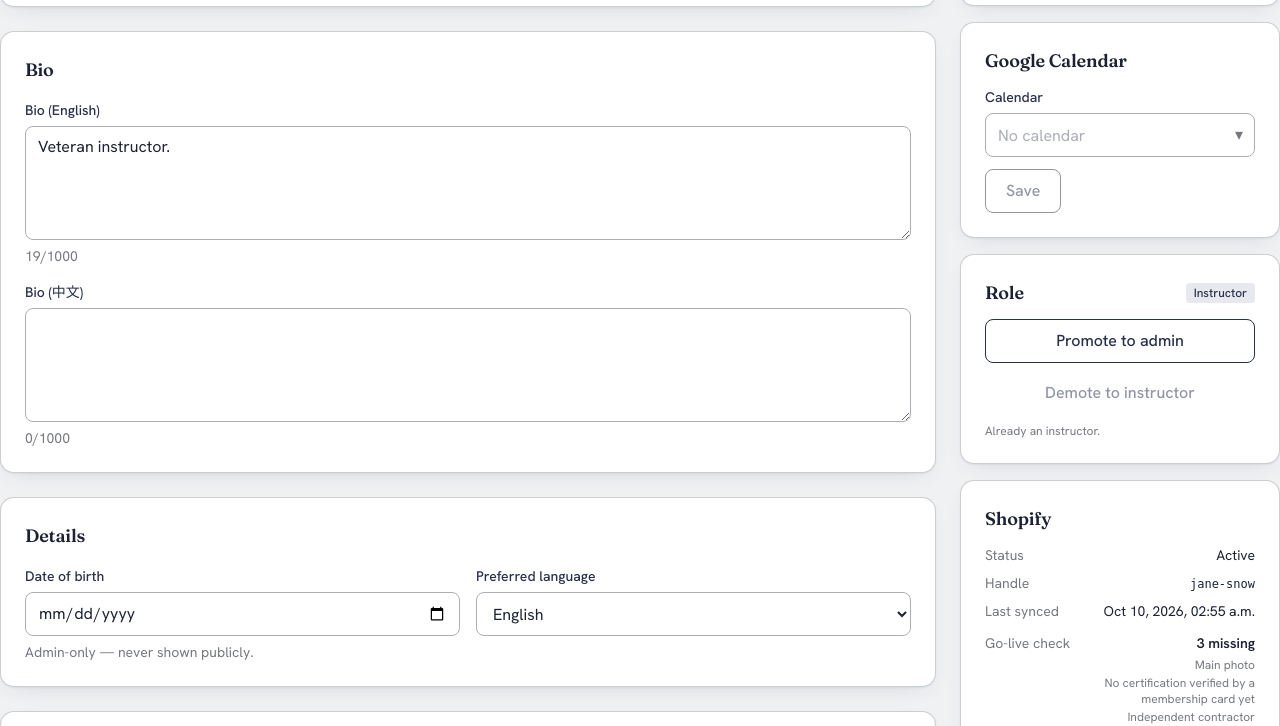
Test case: AdminDetailPage role › shows the instructor role and only allows promoting
(page scrolled)
Check: the text "Instructor" is shown, box [1186,283,1255,303]
Check: the 4th button named "Demote to instructor" is disabled, box [985,371,1255,415]
Click the 3rd button named "Promote to admin" at point(1120, 341), box [985,319,1255,363]
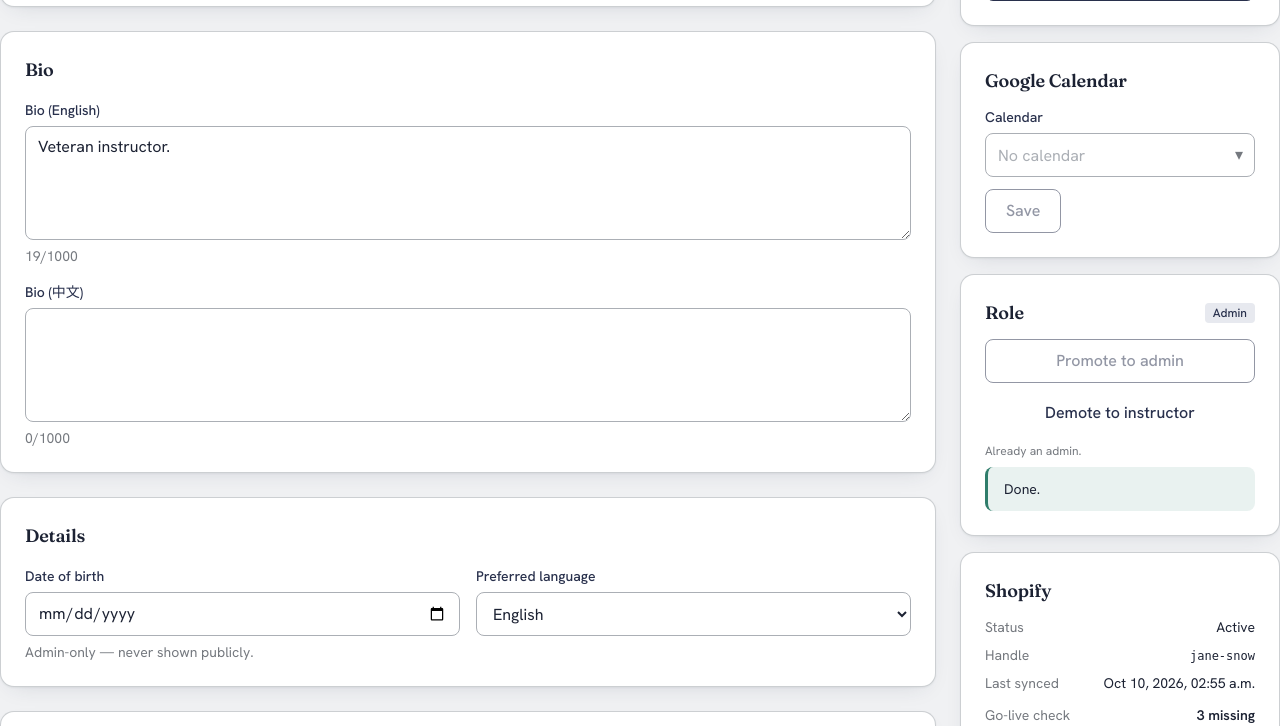
Check: the text "Admin" is shown, box [1205,303,1255,323]
Check: the 3rd button named "Promote to admin" is disabled, box [985,339,1255,383]
Check: the 4th button named "Demote to instructor" is enabled, box [985,391,1255,435]
